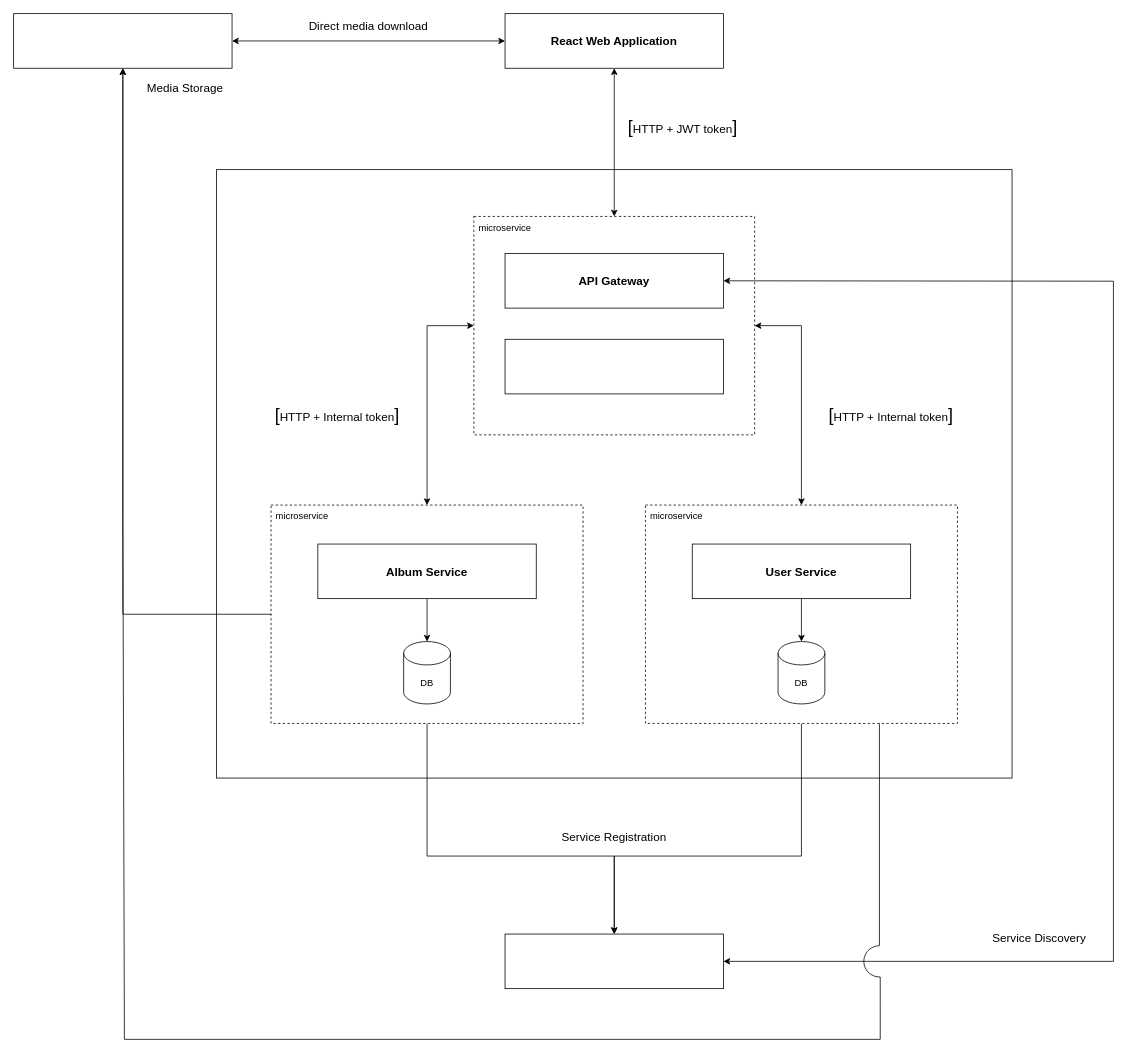
This 1134x1059 diagram has some shape labels left out. The shapes that lost their labels are listed below. From the top down, each one's centre as x and y in pixels, then its label:
At pixel 122 40: "SeaweedFS".
At pixel 613 366: "Authentication Service".
At pixel 613 961: "Eureka Service".
